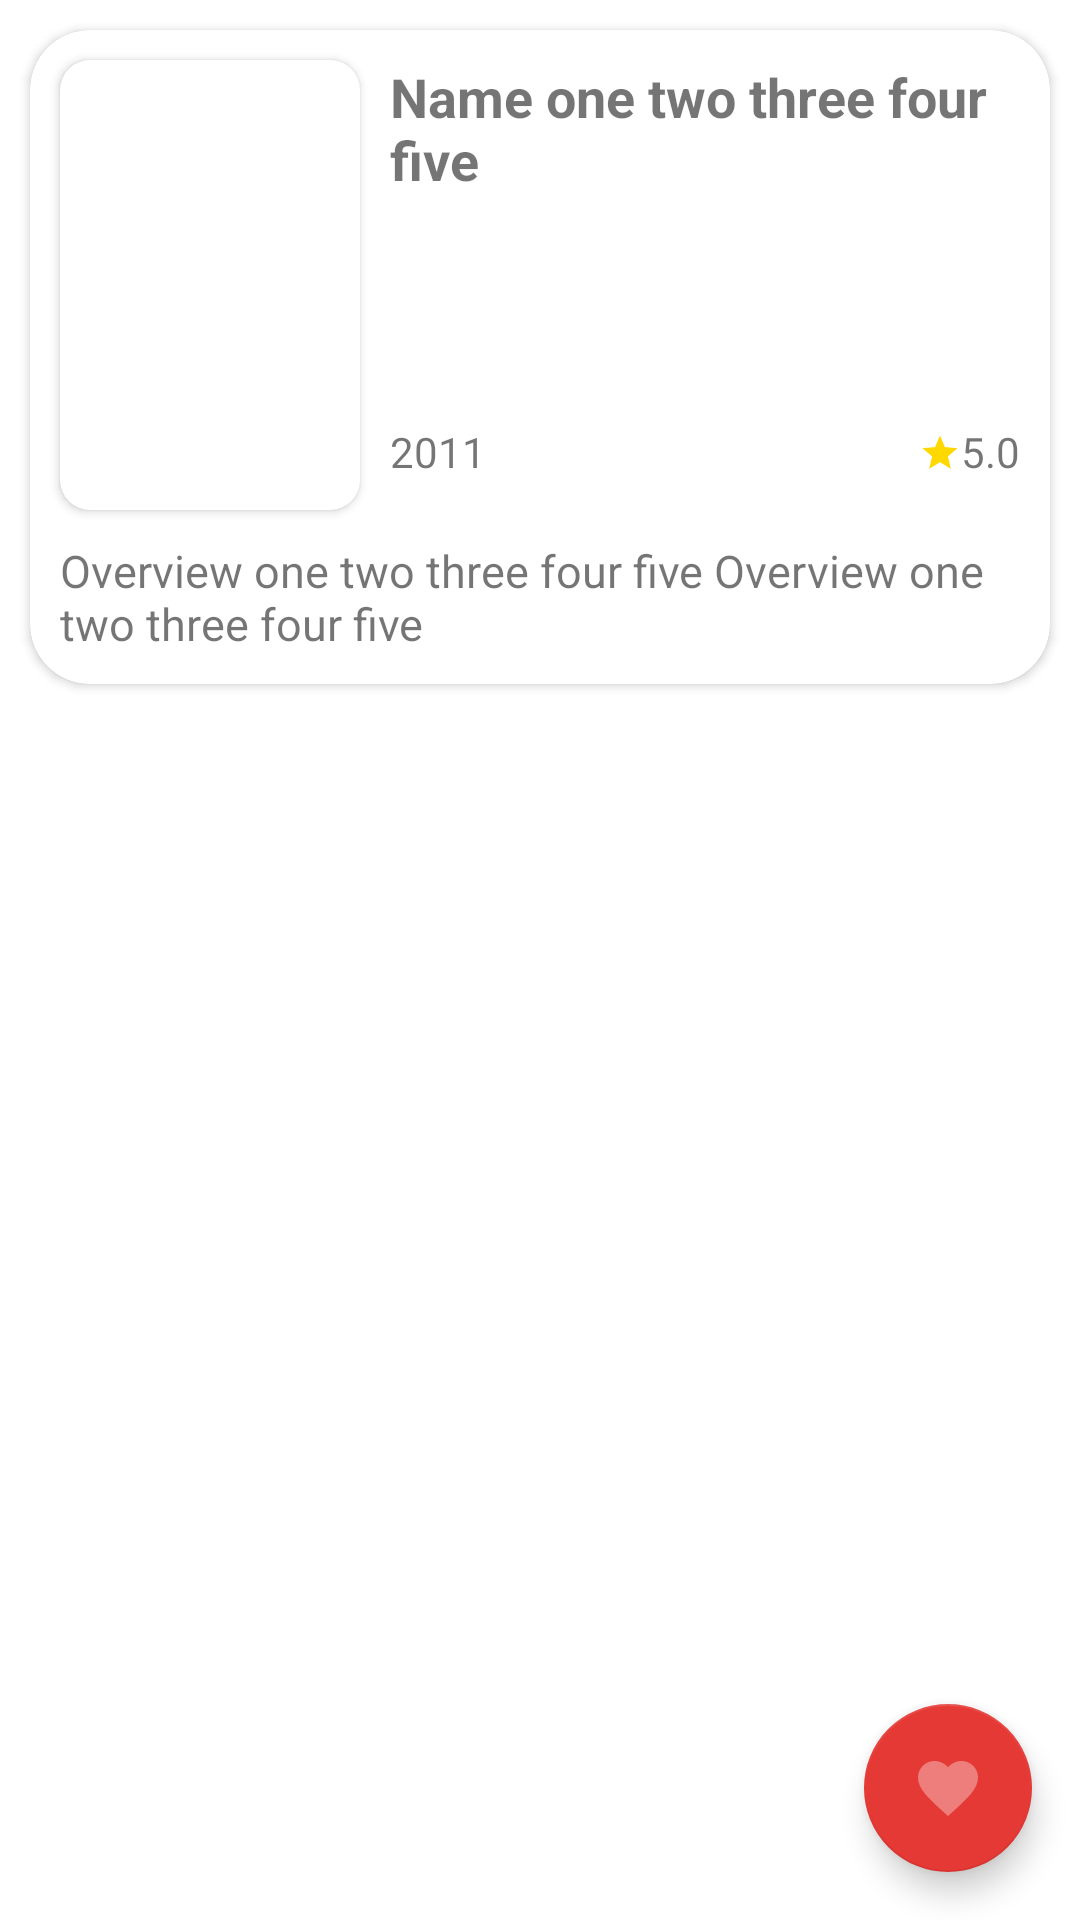

Named icons in this screenshot (1080px x 1920px) and their bounding boxes, bbox(x1, y1, x2, y2):
Save Movie: bbox(864, 1704, 1032, 1872)
star: bbox(923, 436, 957, 469)
